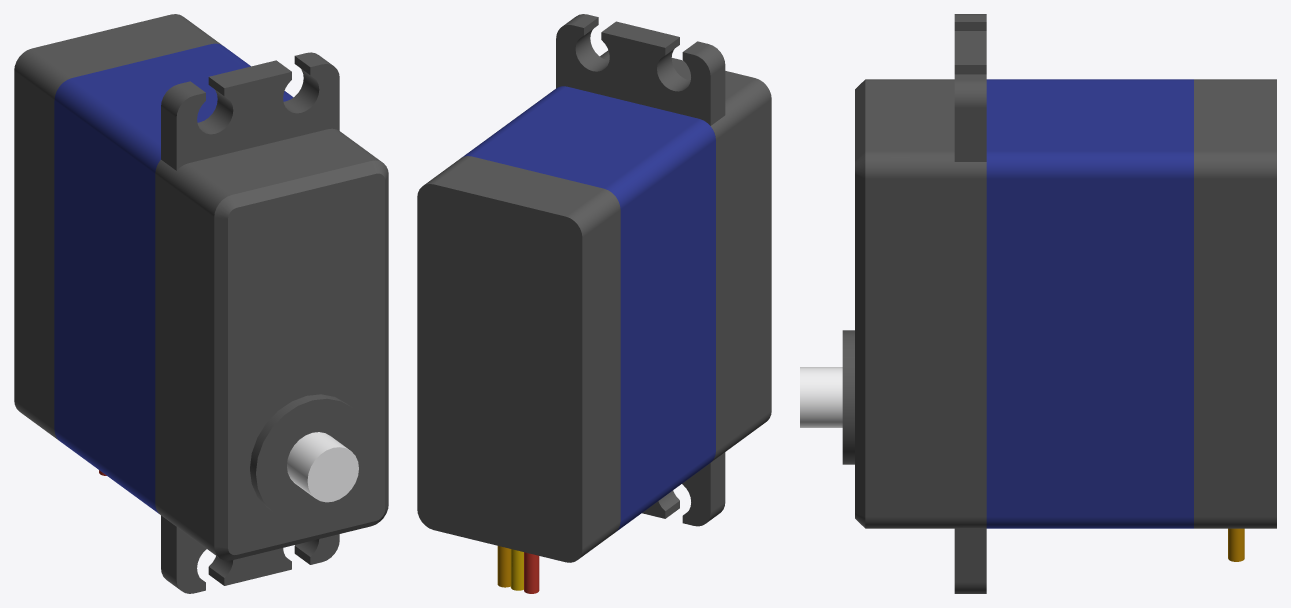
3 views of the same model, side by side, from view 1: azimuth 30°, elevation 25°; view 2: azimuth 150°, elevation 25°; view 3: azimuth 270°, elevation 25° (orthographic). The views are drawn at different scales.
Parts seen in each view (by area): view 1: Body1, Body4, Body3; view 2: Body3, Body4, Body1, Body2; view 3: Body4, Body1, Body3.
Part boxes in pixels (x1,y1,x2,y2): Body1: [155, 52, 388, 593]; Body4: [54, 43, 293, 513]; Body3: [14, 14, 222, 440]; Body3: [417, 156, 620, 562]; Body4: [461, 86, 715, 531]; Body1: [556, 14, 771, 526]; Body2: [497, 546, 539, 593]; Body4: [986, 79, 1193, 528]; Body1: [800, 14, 986, 593]; Body3: [1194, 79, 1276, 528].
Size of the model in its own units: 2 by 5.45 by 4.6.
